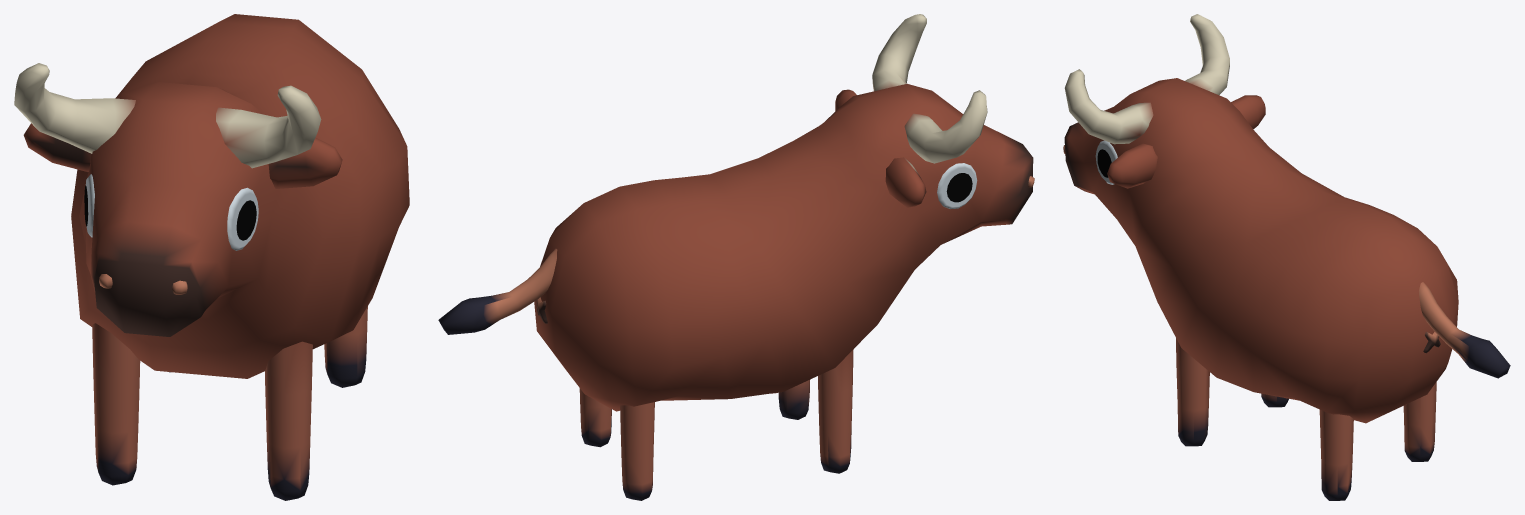
File: Bull.glb
3 renders of one model, left to right at view 1: azimuth 30°, elevation 25°; view 2: azimuth 150°, elevation 25°; view 3: azimuth 270°, elevation 25°, orthographic. The views are drawn at different scales.
Visible parts, largest first — view 1: 17; view 2: 17; view 3: 17.
Boxes of the visible parts, bbox=[...] form: 17: bbox=[14, 14, 409, 500]; 17: bbox=[438, 14, 1034, 500]; 17: bbox=[1063, 14, 1510, 500].
Bounding box in the file's own units: 1.18 × 1.08 × 1.26.
